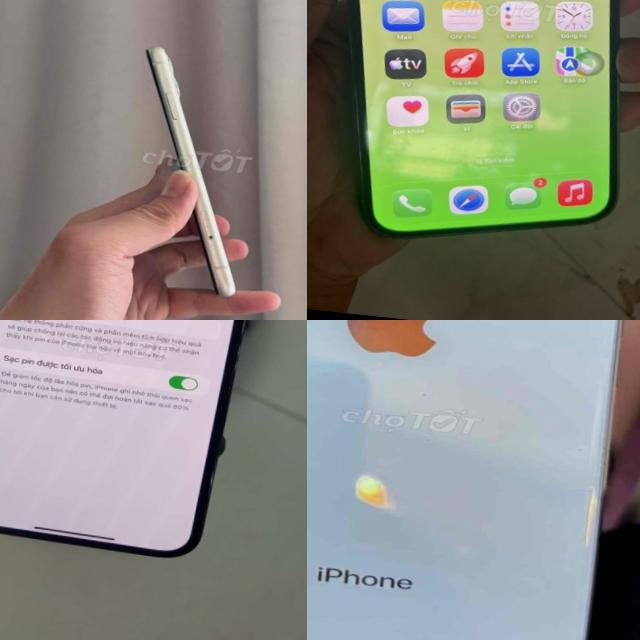gen_11: (147, 47, 234, 296)
gen_12_13: (307, 0, 640, 265), (0, 320, 279, 578)
gen_x_xs: (307, 320, 640, 640)
scratch: (549, 416, 619, 474), (400, 378, 440, 412)
